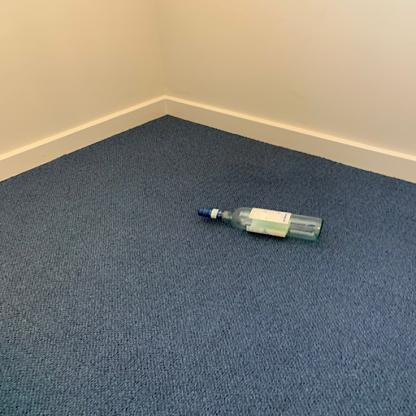trash: (198, 202, 330, 247)
